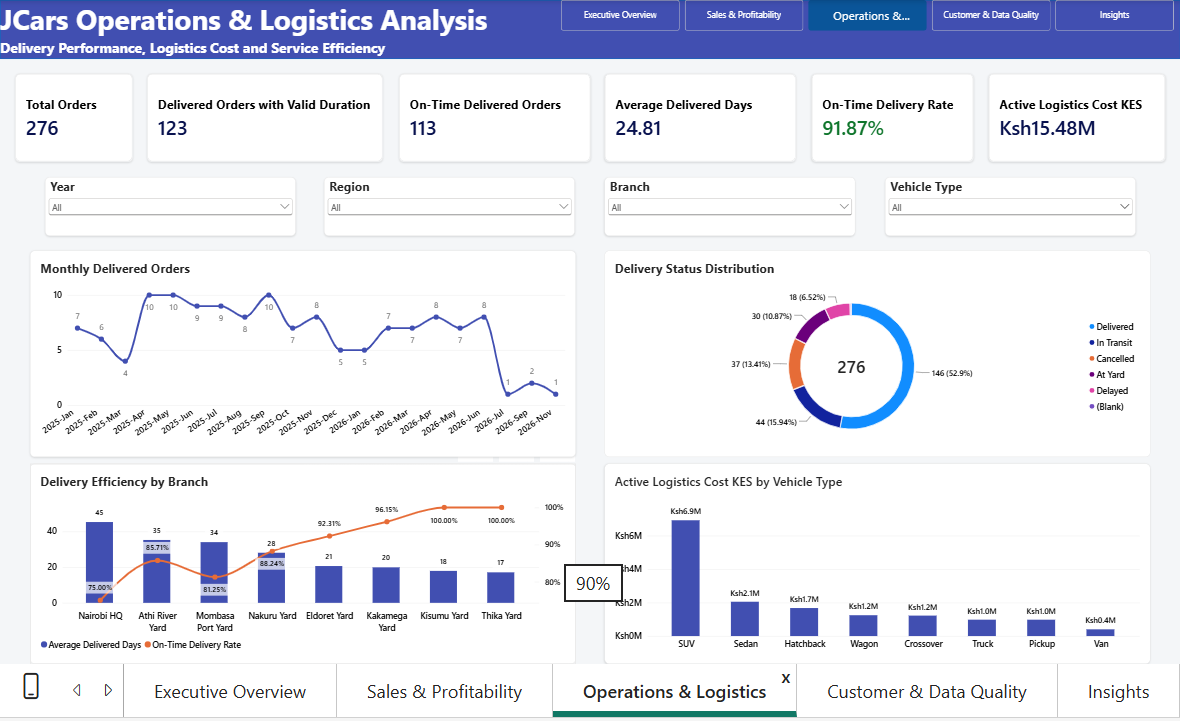

This screenshot's page, from the dashboard's own definition file:
{"tool":"powerbi","page":{"name":"Operations & Logistics","canvas":[1920,1080],"ordinal":2},"visuals":[{"type":"shape","box":[0,0,1920,96],"z":0},{"type":"textbox","title":"JCars Operations & Logistics Analysis","box":[0,0,1920,96],"z":1000},{"type":"cardVisual","fields":{"Data":["_Measures.Total Orders"]},"box":[24,120,192,144],"z":2000},{"type":"cardVisual","fields":{"Data":["_Measures.Delivered Orders with Valid Duration"]},"box":[240,120,384,144],"z":3000},{"type":"cardVisual","fields":{"Data":["_Measures.Average Delivered Days"]},"box":[984,120,312,144],"z":4000},{"type":"cardVisual","fields":{"Data":["_Measures.On-Time Delivery Rate"]},"box":[1320,120,264,144],"z":5000},{"type":"cardVisual","fields":{"Data":["_Measures.Active Logistics Cost KES"]},"box":[1608,120,288,144],"z":6000},{"type":"cardVisual","fields":{"Data":["_Measures.On-Time Delivered Orders"]},"box":[648,120,312,144],"z":7000},{"type":"donutChart","title":"Delivery Status Distribution","fields":{"Category":["FactSalesOrders.Delivery Status"],"Y":["_Measures.Total Orders"]},"box":[984,408,888,336],"z":8000},{"type":"lineClusteredColumnComboChart","title":"Delivery Efficiency by Branch","fields":{"Category":["DimBranch.Branch"],"Y":["_Measures.Average Delivered Days"],"Y2":["_Measures.On-Time Delivery Rate"]},"box":[48,754,888,326],"z":9000},{"type":"lineChart","title":"Monthly Delivered Orders","fields":{"Category":["DimDate.Year Month"],"Y":["_Measures.Delivered Orders by Delivery Date"]},"box":[48,408,888,336],"z":10000},{"type":"clusteredColumnChart","fields":{"Category":["DimVehicle.Vehicle Type"],"Y":["_Measures.Active Logistics Cost KES"]},"box":[984,754,888,326],"z":11000},{"type":"slicer","fields":{"Values":["DimDate.Year"]},"box":[72,288,408,96],"z":12000},{"type":"slicer","fields":{"Values":["DimBranch.Region"]},"box":[528,288,408,96],"z":13000},{"type":"slicer","fields":{"Values":["DimBranch.Branch"]},"box":[984,288,408,96],"z":14000},{"type":"slicer","fields":{"Values":["DimVehicle.Vehicle Type"]},"box":[1440,288,408,96],"z":15000},{"type":"pageNavigator","box":[912,0,1000,50],"z":16000}]}

Visuals, with their boxes on the page's 1920x1080 design canvas (x1, y1, x2, y2). These are canvas units, not pixel positions in the 1180x721 screenshot, which may show the page scaled, cropped or inside an application window:
shape: box=[0, 0, 1920, 96]
"JCars Operations & Logistics Analysis" textbox: box=[0, 0, 1920, 96]
cardVisual - _Measures.Total Orders: box=[24, 120, 216, 264]
cardVisual - _Measures.Delivered Orders with Valid Duration: box=[240, 120, 624, 264]
cardVisual - _Measures.Average Delivered Days: box=[984, 120, 1296, 264]
cardVisual - _Measures.On-Time Delivery Rate: box=[1320, 120, 1584, 264]
cardVisual - _Measures.Active Logistics Cost KES: box=[1608, 120, 1896, 264]
cardVisual - _Measures.On-Time Delivered Orders: box=[648, 120, 960, 264]
"Delivery Status Distribution" donutChart: box=[984, 408, 1872, 744]
"Delivery Efficiency by Branch" lineClusteredColumnComboChart: box=[48, 754, 936, 1080]
"Monthly Delivered Orders" lineChart: box=[48, 408, 936, 744]
clusteredColumnChart - DimVehicle.Vehicle Type x _Measures.Active Logistics Cost KES: box=[984, 754, 1872, 1080]
slicer - DimDate.Year: box=[72, 288, 480, 384]
slicer - DimBranch.Region: box=[528, 288, 936, 384]
slicer - DimBranch.Branch: box=[984, 288, 1392, 384]
slicer - DimVehicle.Vehicle Type: box=[1440, 288, 1848, 384]
pageNavigator: box=[912, 0, 1912, 50]
